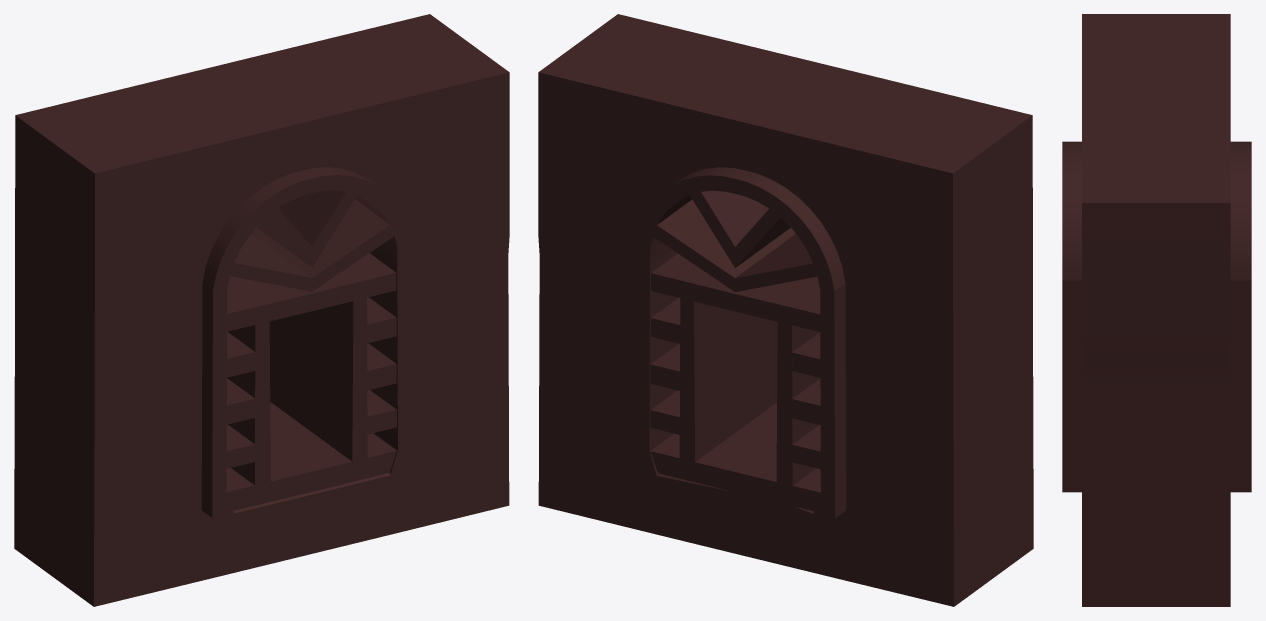
Rendered from ventana(1).FBX.
3 renders of one model, left to right at view 1: azimuth 30°, elevation 25°; view 2: azimuth 150°, elevation 25°; view 3: azimuth 270°, elevation 25°, orthographic. The views are drawn at different scales.
Visible parts, largest first — view 1: Arc001; view 2: Arc001; view 3: Arc001.
Part boxes in pixels (x1,y1,x2,y2): Arc001: (14,14,509,606); Arc001: (538,14,1033,606); Arc001: (1062,14,1251,606).
Size of the model in its own units: 603 by 600 by 254.
